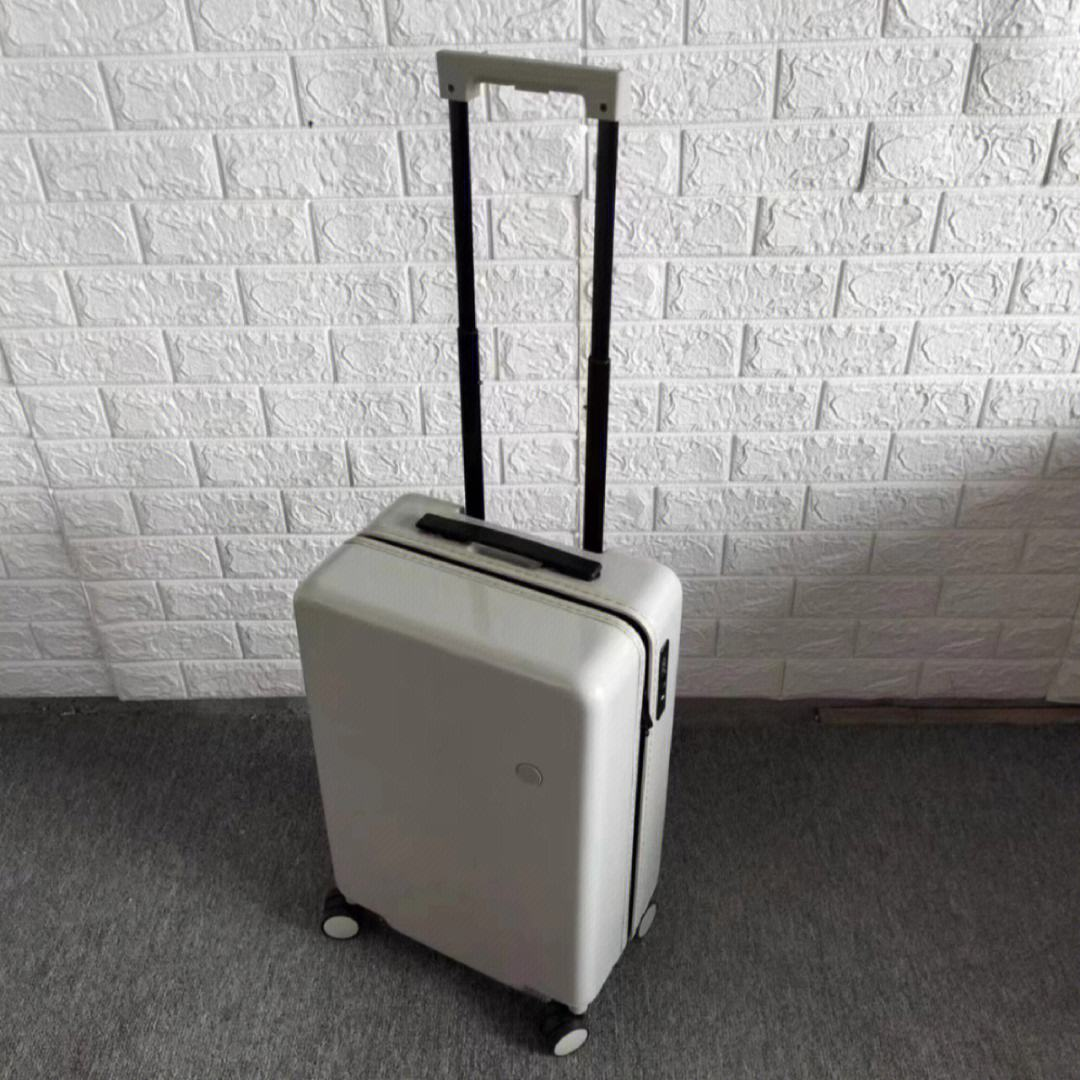box: (293, 492, 682, 1011)
handle: (416, 513, 603, 582)
wheel: (532, 1002, 591, 1058), (321, 888, 360, 941)
